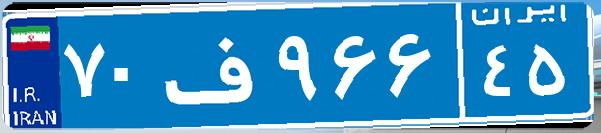0: (110, 28, 158, 105)
4: (475, 38, 525, 113)
5: (525, 38, 570, 115)
6: (385, 28, 445, 110), (330, 28, 385, 110)
7: (57, 26, 110, 107)
9: (273, 28, 330, 110)
ف: (158, 15, 273, 115)
